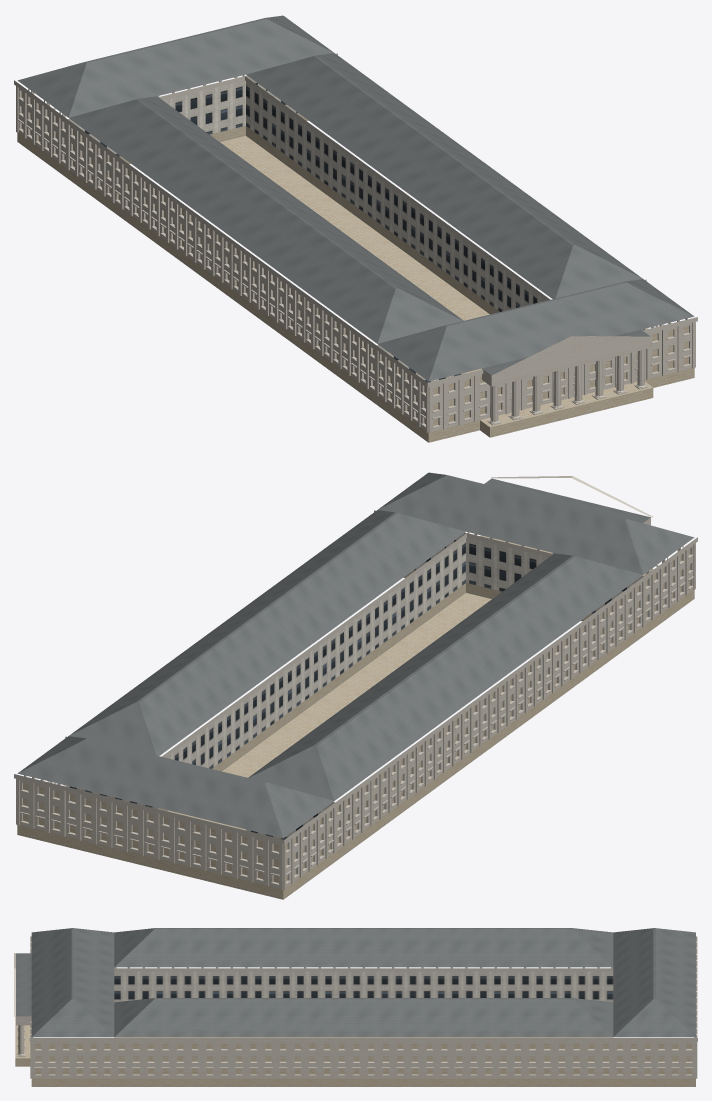
Rendered from dar_hall.glb.
The picture shows the model from 3 angles, top to bottom: view 1: azimuth 30°, elevation 25°; view 2: azimuth 150°, elevation 25°; view 3: azimuth 270°, elevation 25°; orthographic projection. The views are drawn at different scales.
Parts seen in each view (by area): view 1: dar_hall; view 2: dar_hall; view 3: dar_hall.
Part boxes in pixels (x1=…): dar_hall: x1=14, y1=15, x2=697, y2=442; dar_hall: x1=14, y1=472, x2=697, y2=899; dar_hall: x1=14, y1=928, x2=697, y2=1086.
Bounding box in the file's own units: 64.5 × 20 × 175.
4 materials, 4 textured.
